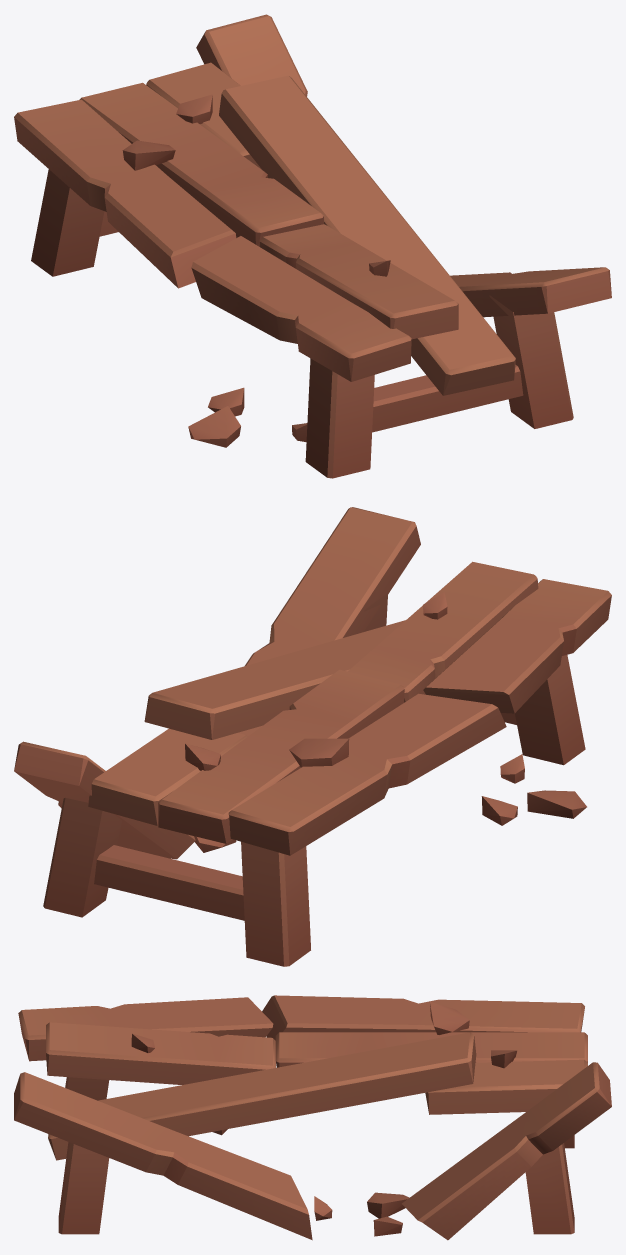
File: table_long_broken.gltf
3 views of the same model, one above another, from view 1: azimuth 30°, elevation 25°; view 2: azimuth 150°, elevation 25°; view 3: azimuth 270°, elevation 25° (orthographic). The views are drawn at different scales.
Visible parts, largest first — view 1: table_long_broken; view 2: table_long_broken; view 3: table_long_broken.
Boxes of the visible parts, x1,y1,x2,y2 form: table_long_broken: (14,14,611,478); table_long_broken: (14,507,611,966); table_long_broken: (14,995,611,1240).
Size of the model in its own units: 2.41 by 1.27 by 4.4.
Materials: 1 (1 with a texture image).
